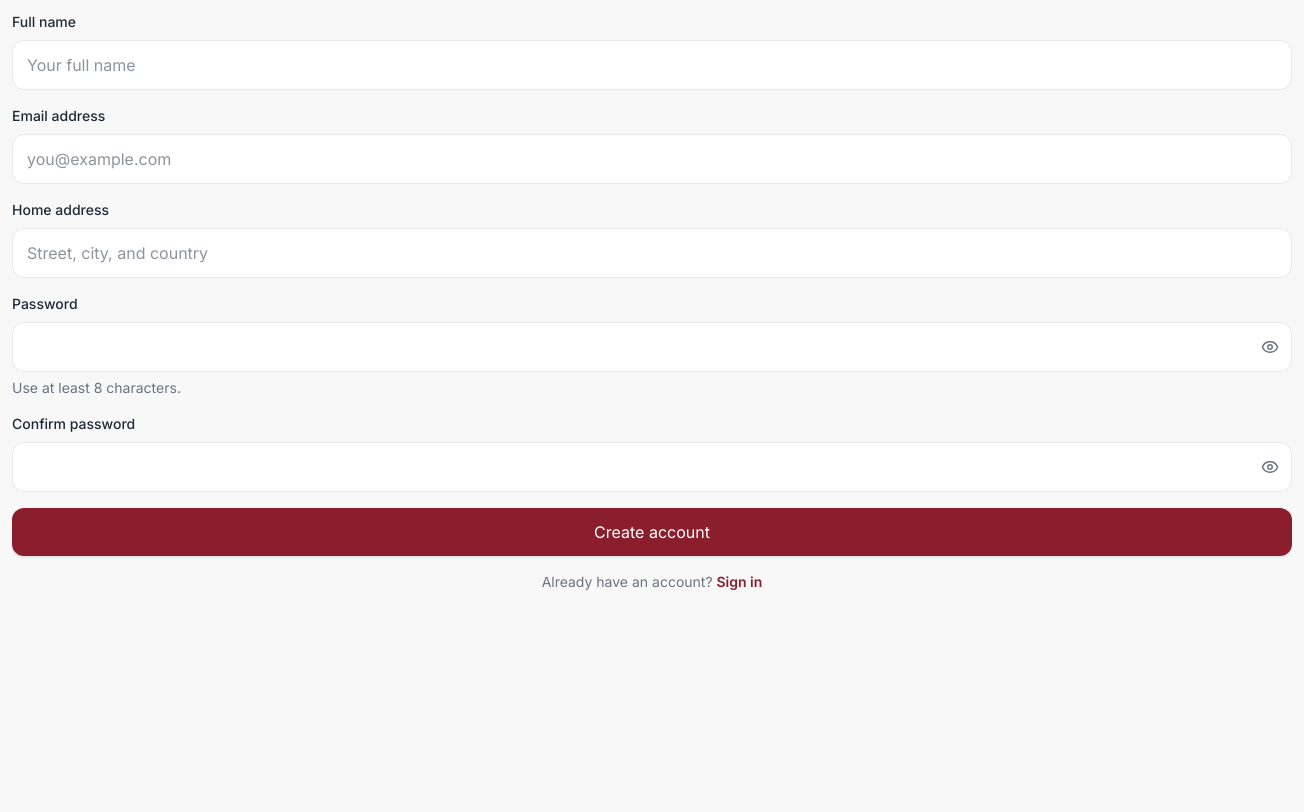
it: SignupForm › shows an error when submit fails
Type "Jane Doe" into the field labelled "Full name" at (652, 65), box x1=12 y1=40 x2=1292 y2=90
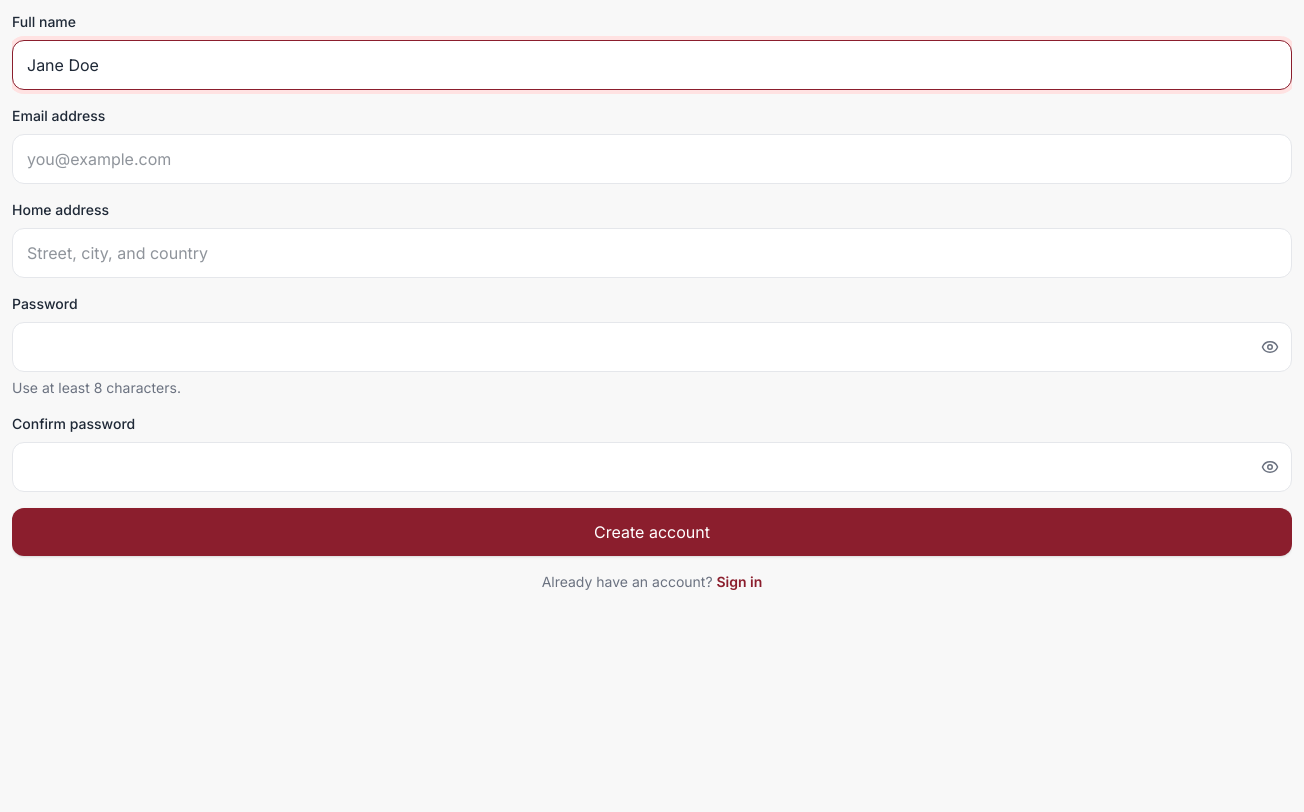
Type "jane@example.com" into the field labelled "Email address" at (652, 159), box x1=12 y1=134 x2=1292 y2=184
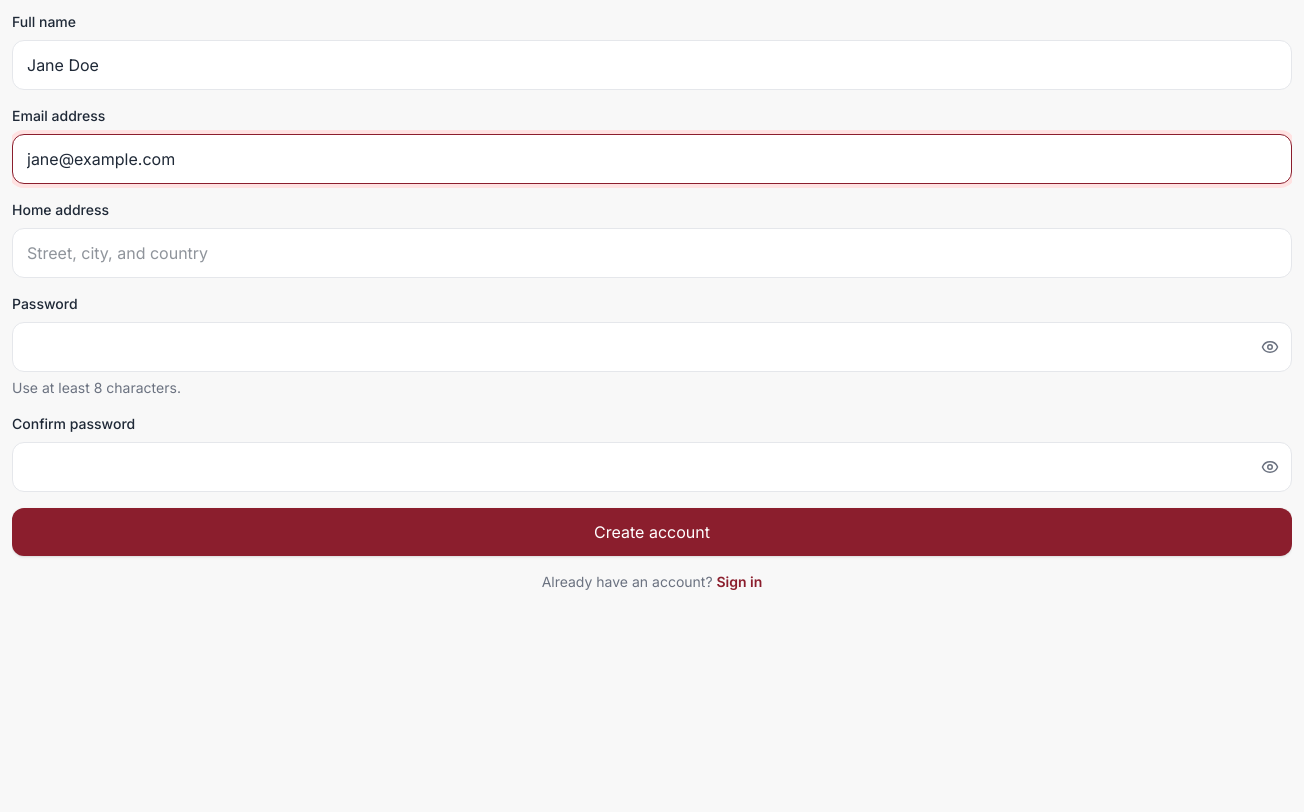
Type "123 Main St" into the field labelled "Home address" at (652, 253), box x1=12 y1=228 x2=1292 y2=278
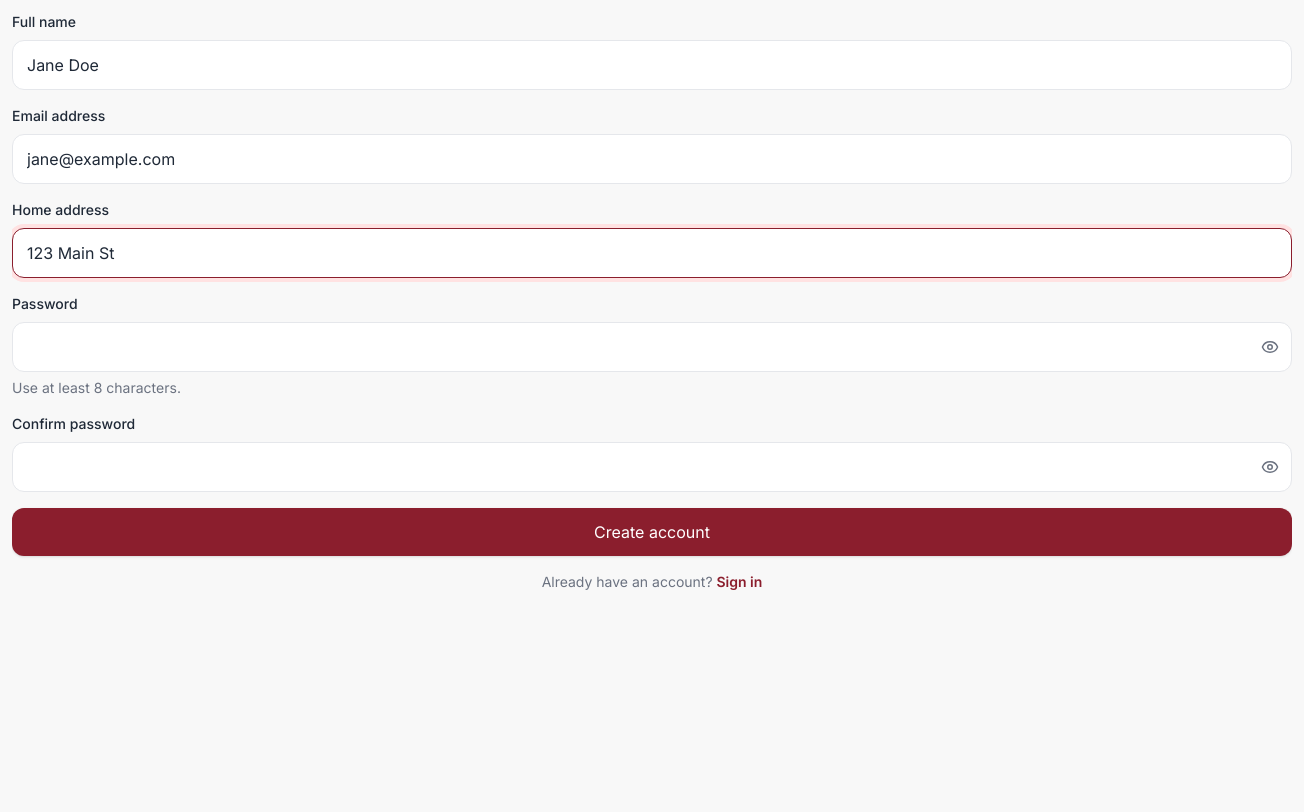
Type "password1" into the password field labelled "Password" at (652, 347), box x1=12 y1=322 x2=1292 y2=372
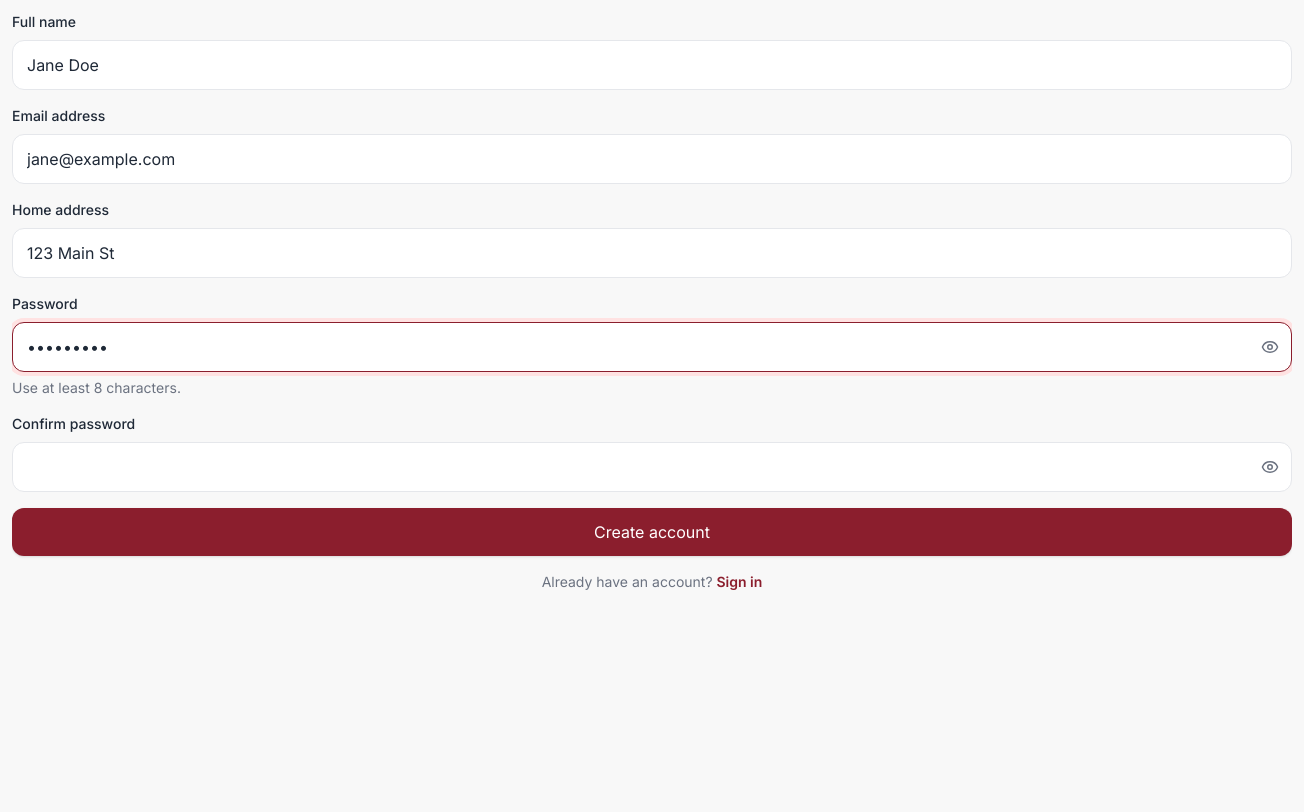
Type "password1" into the password field labelled "Confirm password" at (652, 467), box x1=12 y1=442 x2=1292 y2=492
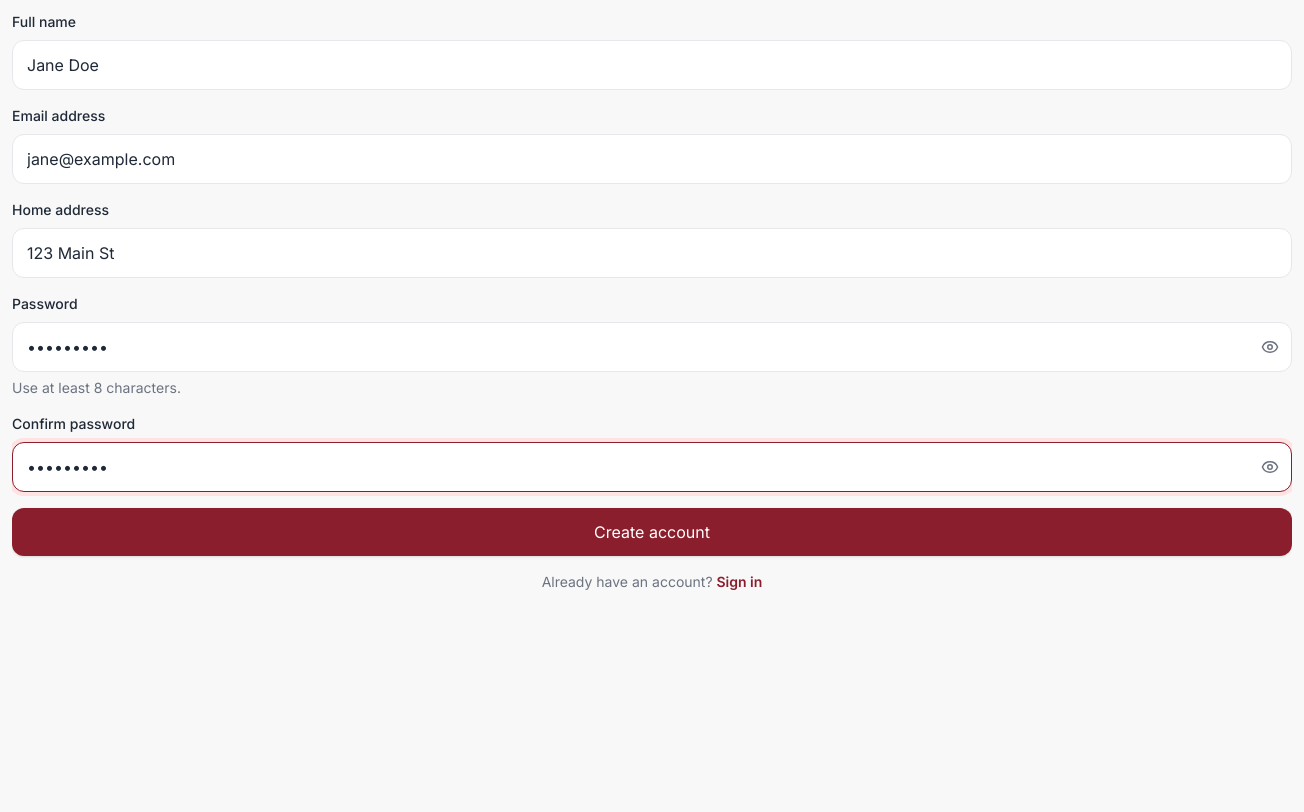
Click the button "Create account" at (652, 532), box x1=12 y1=508 x2=1292 y2=556
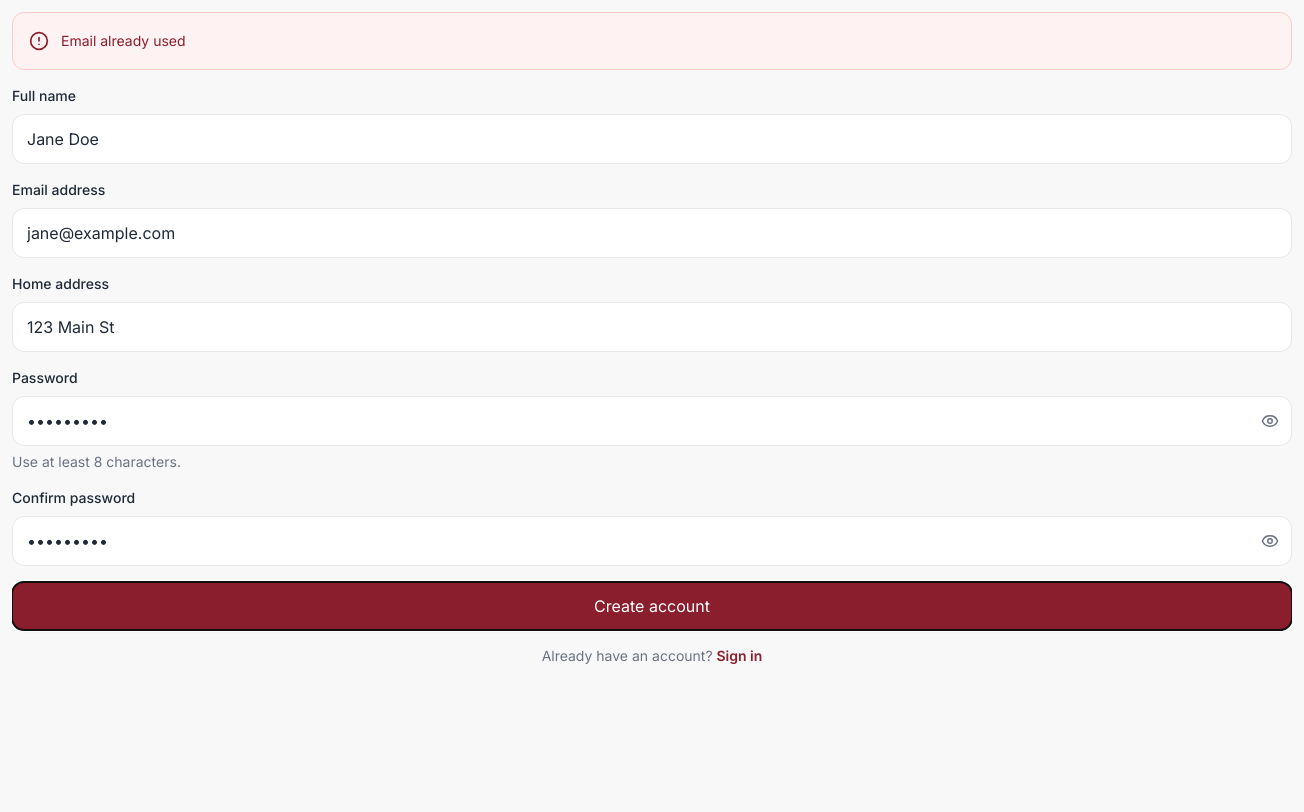
Expected: the message reads "Email already used", x1=61 y1=32 x2=186 y2=49
